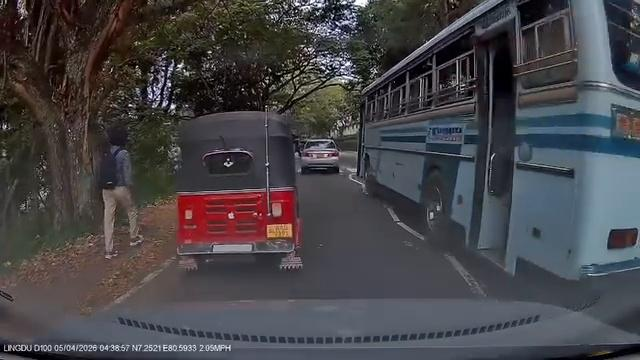illegal overtaking: (348, 37, 636, 302)
